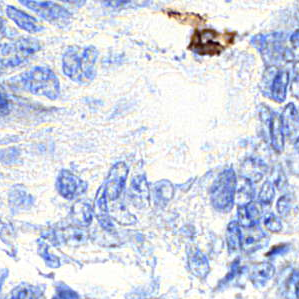Lymphocyte: (188, 26, 233, 55)
